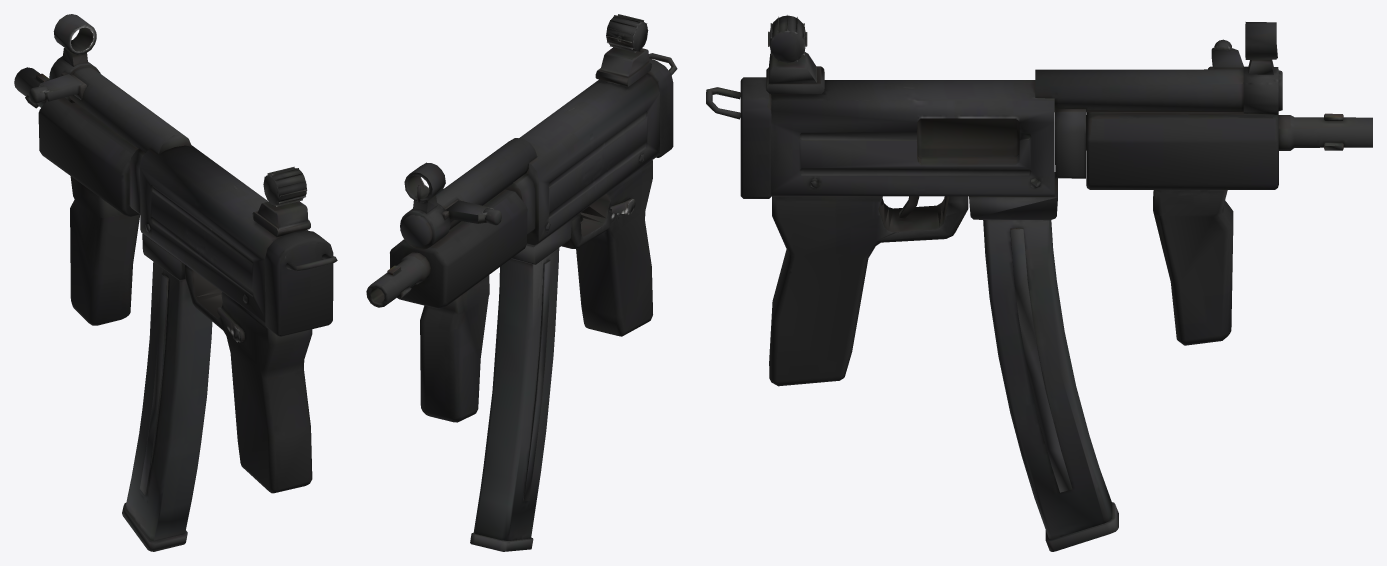
3 views of the same model, side by side, from view 1: azimuth 30°, elevation 25°; view 2: azimuth 150°, elevation 25°; view 3: azimuth 270°, elevation 25° (orthographic). The views are drawn at different scales.
Visible parts, largest first — view 1: sg5k_lod; view 2: sg5k_lod; view 3: sg5k_lod.
Part boxes in pixels (left/top/right/bottom): sg5k_lod: left=14, top=14, right=337, bottom=551; sg5k_lod: left=366, top=14, right=677, bottom=551; sg5k_lod: left=706, top=15, right=1372, bottom=551.
Size of the model in its own units: 0.0602 by 0.2928 by 0.3395.
1 material, 1 textured.
